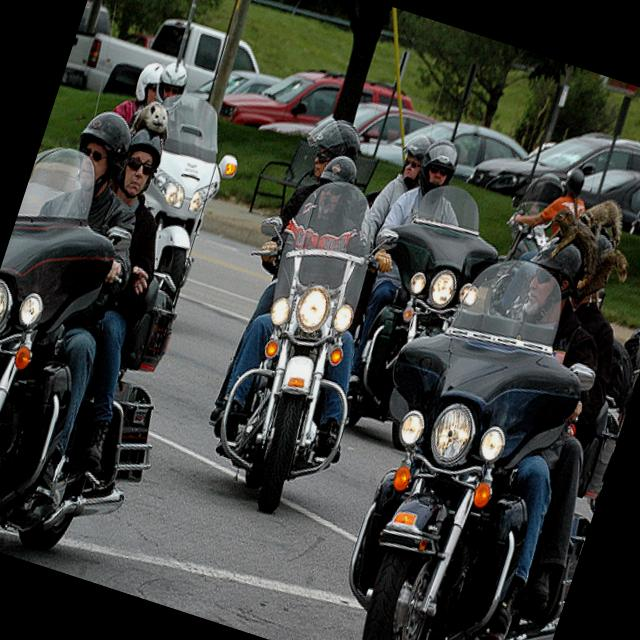Vehicle: (301, 235, 640, 640), (0, 144, 229, 586), (171, 162, 417, 537), (332, 170, 516, 446), (97, 90, 255, 348), (60, 0, 268, 142), (468, 94, 640, 253), (218, 40, 419, 174), (262, 67, 440, 182), (356, 92, 534, 205), (576, 316, 640, 522), (182, 53, 282, 122), (575, 155, 640, 240), (62, 1, 122, 90), (495, 210, 554, 272)
